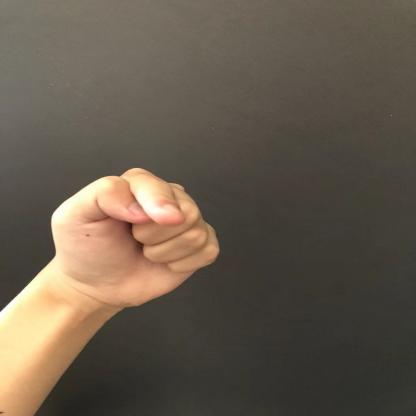finger_point: (143, 156, 193, 227)
